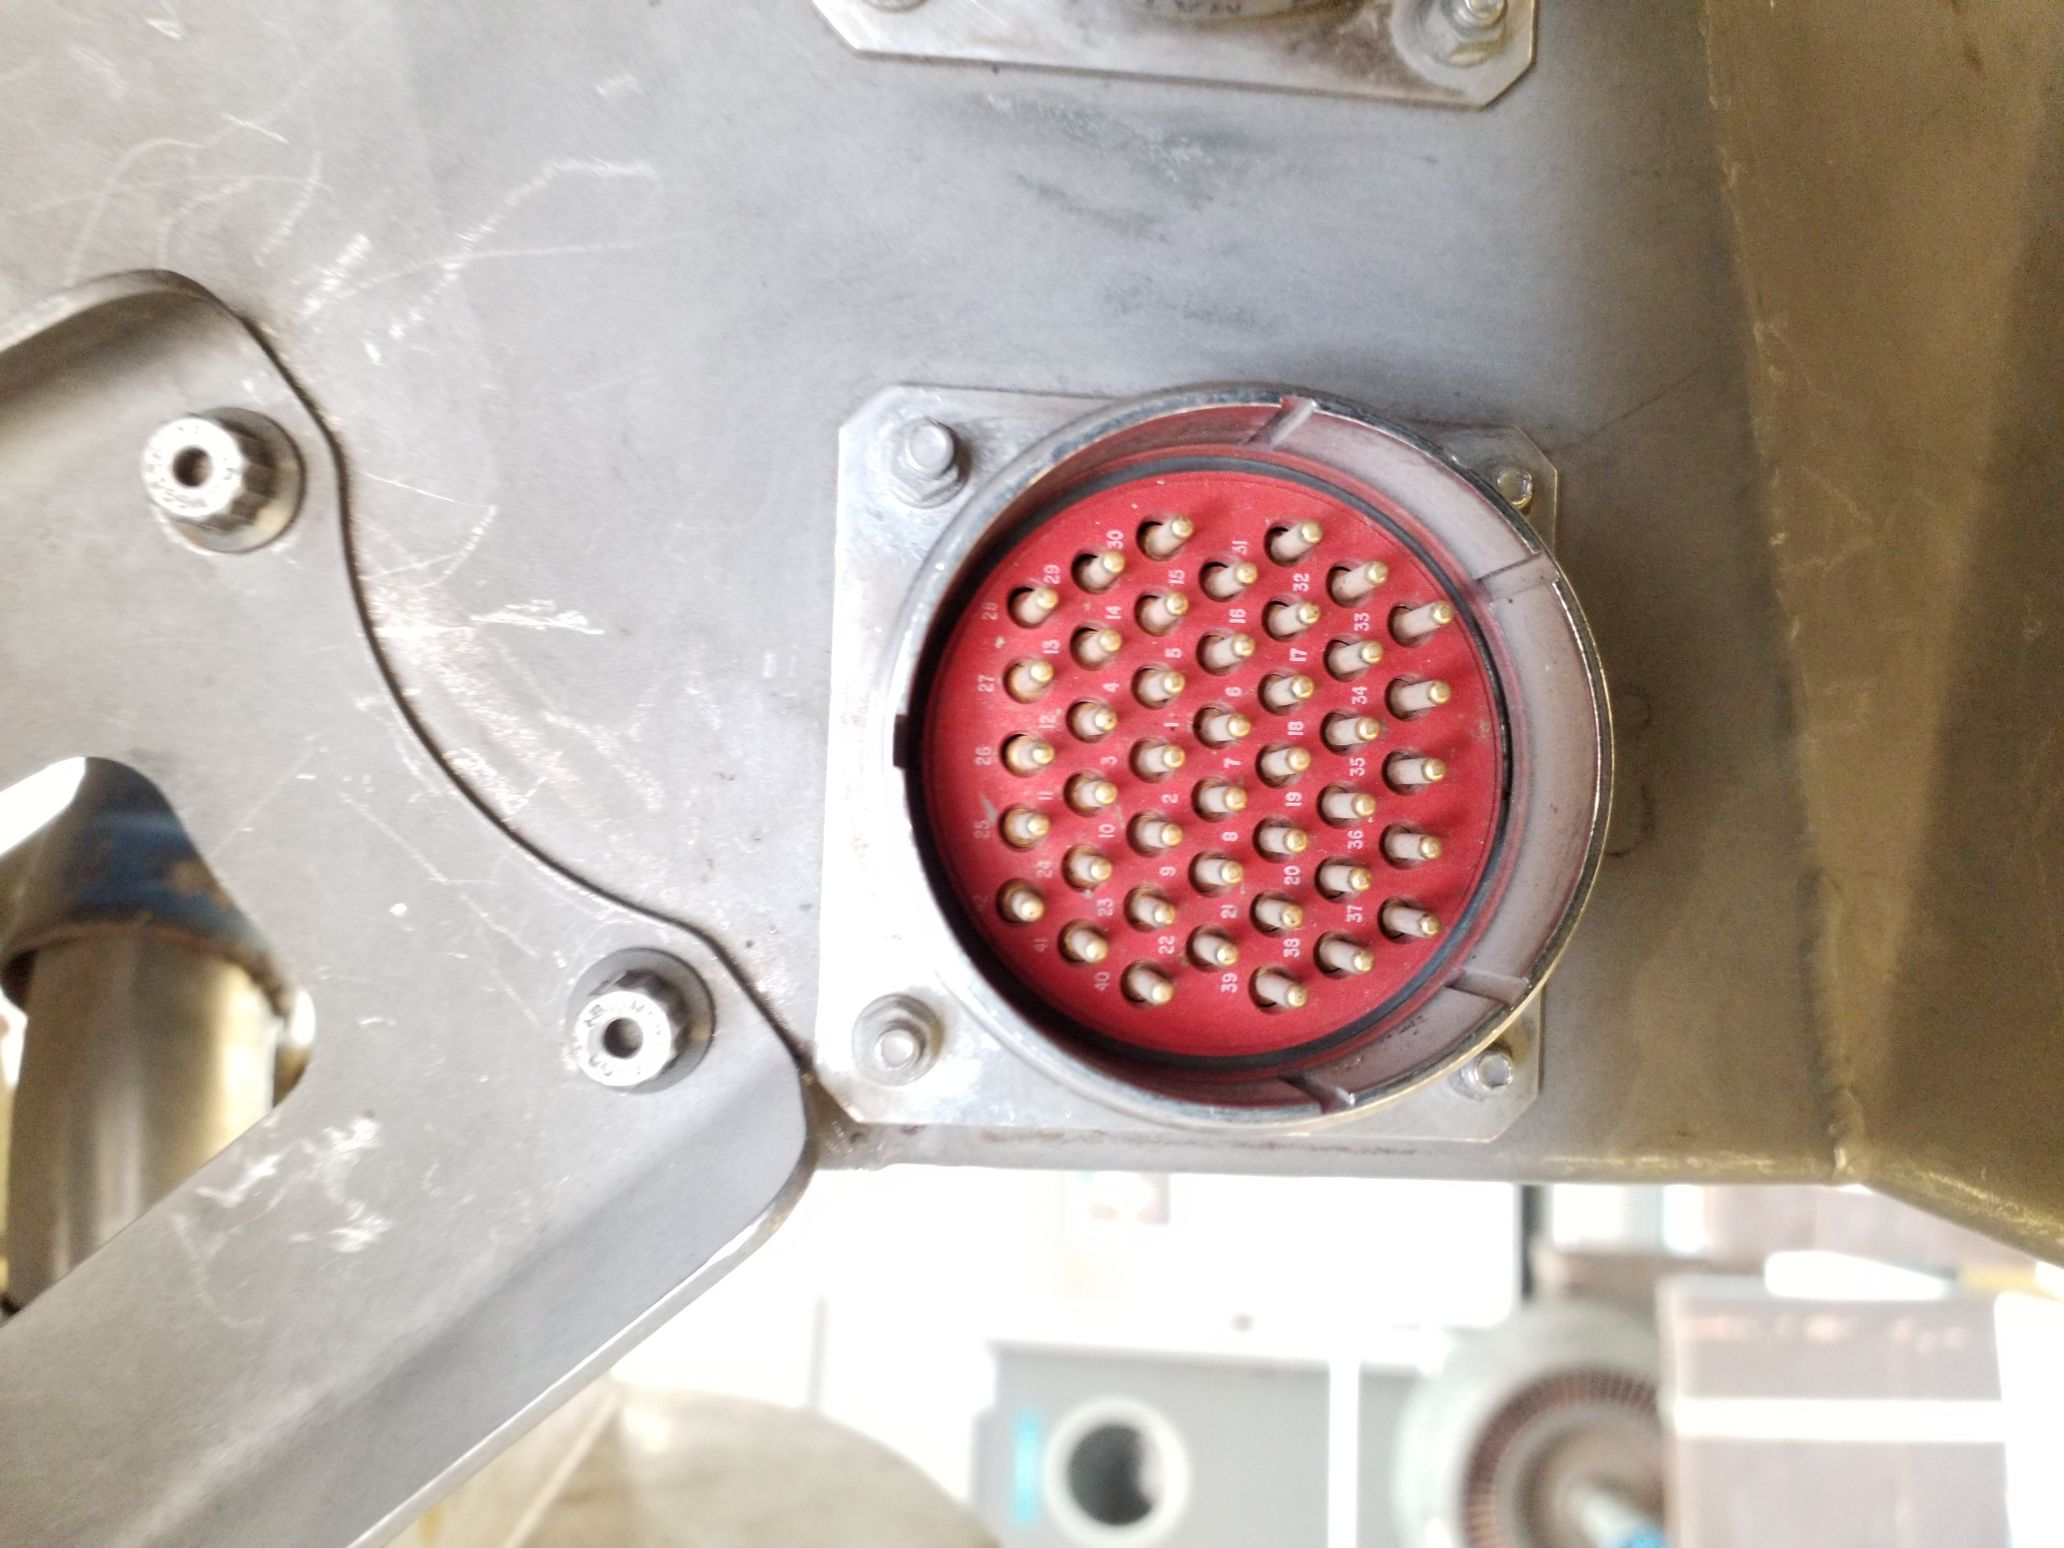outlet: (858, 371, 1625, 1146)
